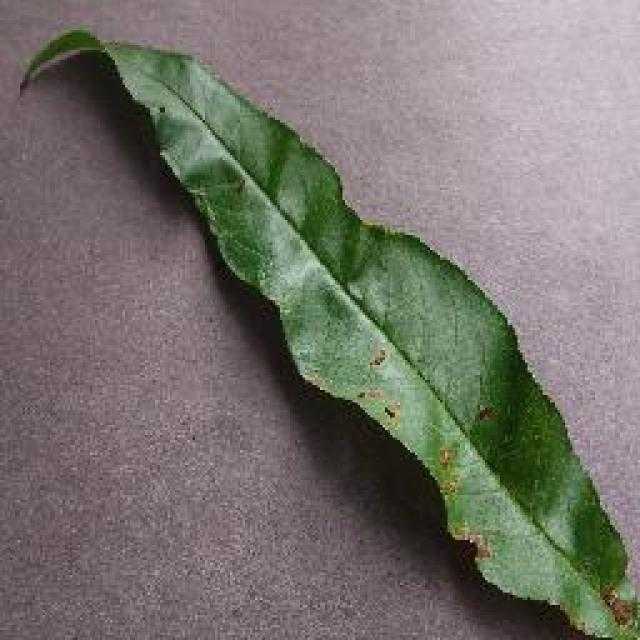Peach_Bacterial_Spot: (318, 256, 628, 640)
